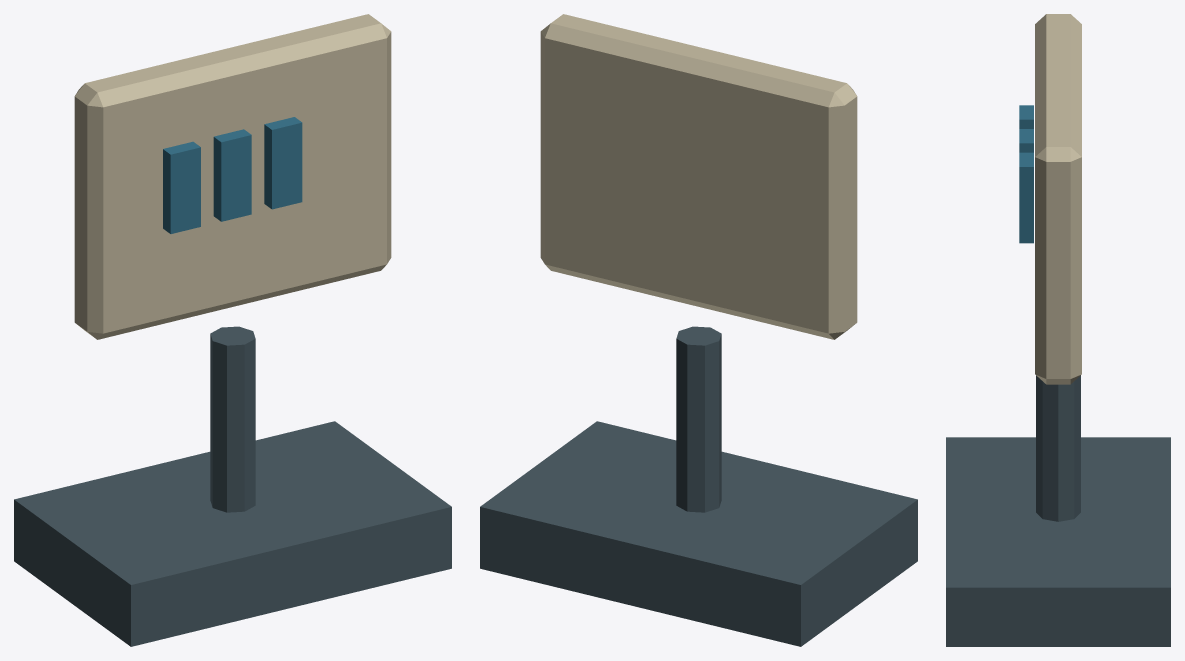
The model's file is set_numbered_sign.glb.
3 views of the same model, side by side, from view 1: azimuth 30°, elevation 25°; view 2: azimuth 150°, elevation 25°; view 3: azimuth 270°, elevation 25° (orthographic). The views are drawn at different scales.
Parts seen in each view (by area): view 1: set_numbered_sign; view 2: set_numbered_sign; view 3: set_numbered_sign.
Part boxes in pixels (x1,y1,x2,y2): set_numbered_sign: (14, 14, 451, 646); set_numbered_sign: (480, 14, 917, 646); set_numbered_sign: (946, 14, 1170, 646).
Bounding box in the file's own units: 0.19 × 0.2895 × 0.12.
